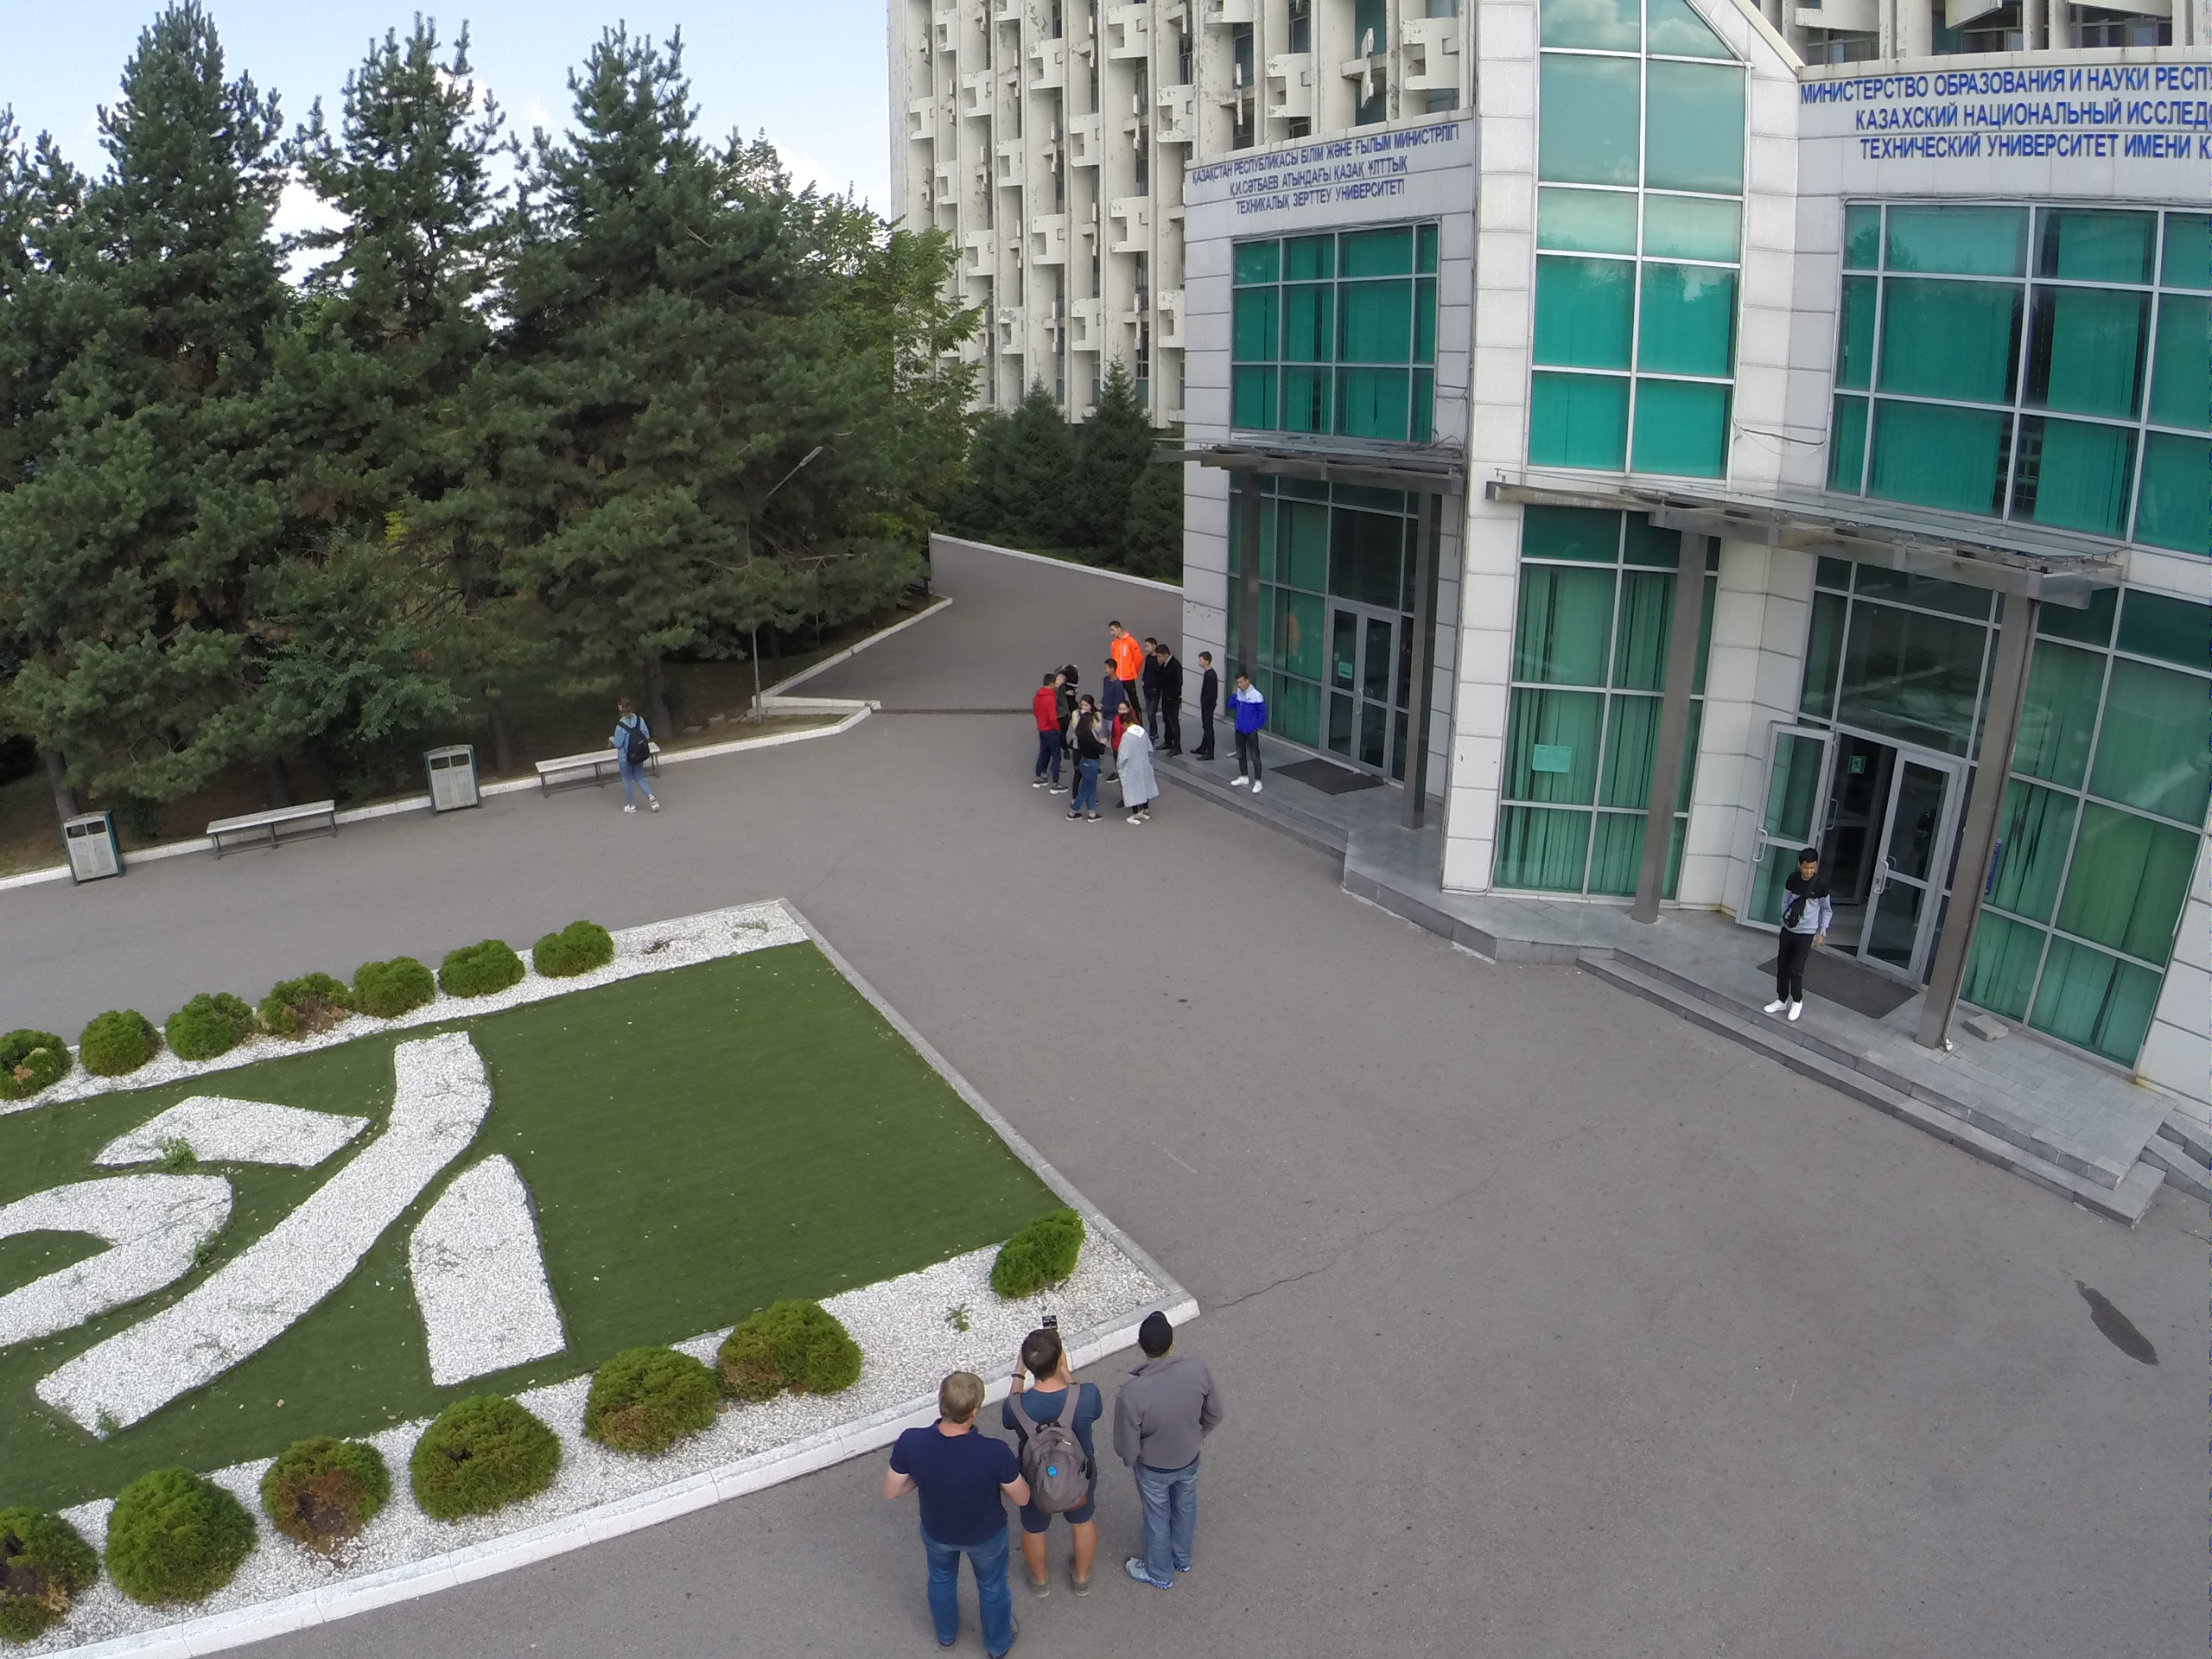person: (884, 1370, 1012, 1659), (1117, 1307, 1227, 1587), (1001, 1327, 1103, 1598), (1768, 845, 1832, 1026), (601, 696, 661, 816), (1116, 710, 1161, 826), (1228, 671, 1266, 797), (1029, 674, 1064, 797), (1071, 715, 1103, 822), (1157, 645, 1185, 759), (1191, 649, 1217, 765), (1110, 617, 1138, 698), (1143, 635, 1160, 747), (1100, 656, 1123, 710), (1056, 661, 1081, 705)
